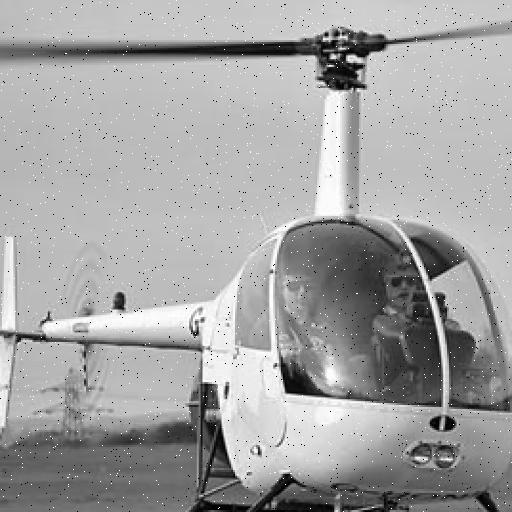helicopter: (1, 14, 512, 512)
